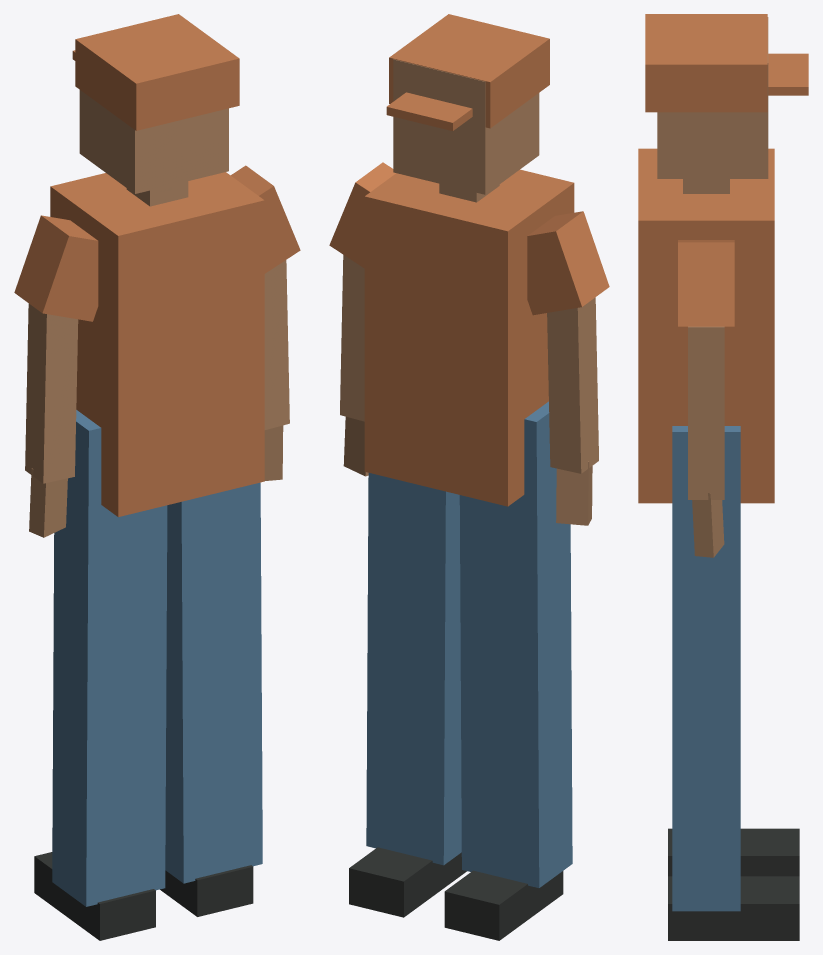
The model's file is pedestrian_01_far.glb.
3 views of the same model, side by side, from view 1: azimuth 30°, elevation 25°; view 2: azimuth 150°, elevation 25°; view 3: azimuth 270°, elevation 25° (orthographic). The views are drawn at different scales.
Parts seen in each view (by area): view 1: pedestrian_01 crowd_trousers.001, pedestrian_01 crowd_shirt.001, pedestrian_01 crowd_skin.001, pedestrian_01 crowd_accessory.001, pedestrian_01 crowd_rubber.001; view 2: pedestrian_01 crowd_trousers.001, pedestrian_01 crowd_shirt.001, pedestrian_01 crowd_skin.001, pedestrian_01 crowd_accessory.001, pedestrian_01 crowd_rubber.001; view 3: pedestrian_01 crowd_shirt.001, pedestrian_01 crowd_trousers.001, pedestrian_01 crowd_skin.001, pedestrian_01 crowd_accessory.001, pedestrian_01 crowd_rubber.001.
Boxes of the visible parts, x1,y1,x2,y2 form: pedestrian_01 crowd_trousers.001: [52, 410, 262, 906]; pedestrian_01 crowd_shirt.001: [14, 165, 300, 517]; pedestrian_01 crowd_skin.001: [25, 90, 289, 537]; pedestrian_01 crowd_accessory.001: [72, 14, 239, 130]; pedestrian_01 crowd_rubber.001: [34, 852, 253, 940]; pedestrian_01 crowd_trousers.001: [366, 401, 572, 887]; pedestrian_01 crowd_shirt.001: [329, 162, 609, 506]; pedestrian_01 crowd_skin.001: [340, 59, 598, 525]; pedestrian_01 crowd_accessory.001: [386, 14, 549, 130]; pedestrian_01 crowd_rubber.001: [349, 847, 563, 940]; pedestrian_01 crowd_shirt.001: [638, 148, 774, 503]; pedestrian_01 crowd_trousers.001: [672, 426, 740, 911]; pedestrian_01 crowd_skin.001: [657, 17, 768, 557]; pedestrian_01 crowd_accessory.001: [645, 14, 808, 112]; pedestrian_01 crowd_rubber.001: [668, 828, 799, 940].
Size of the model in its own units: 0.5717 by 1.82 by 0.325.
